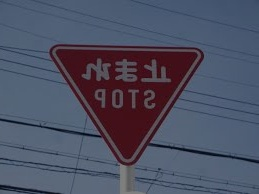Regulatory_sign_triangle: (48, 38, 206, 165)
